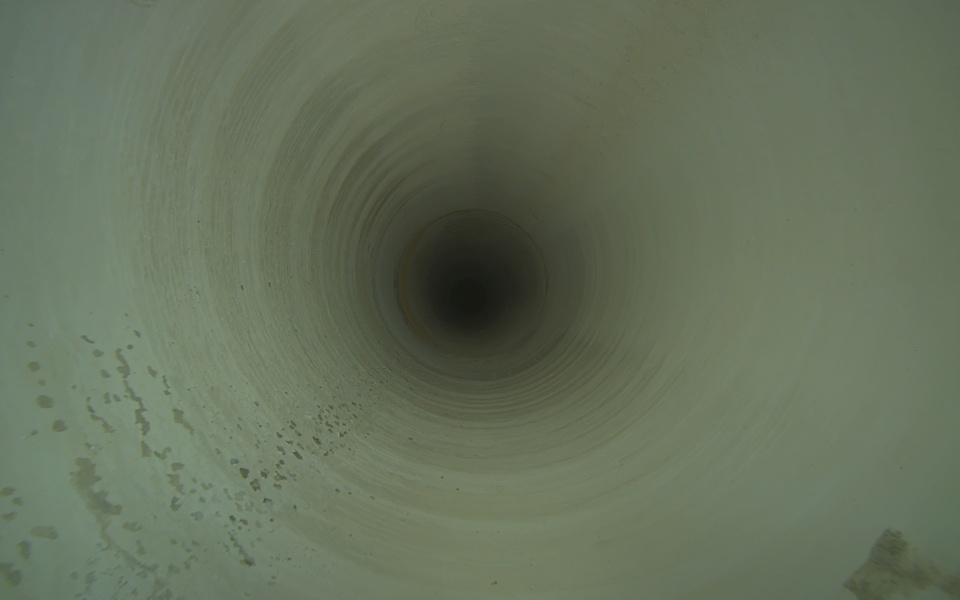circle1: (392, 207, 553, 364)
circle2: (452, 276, 486, 312)
